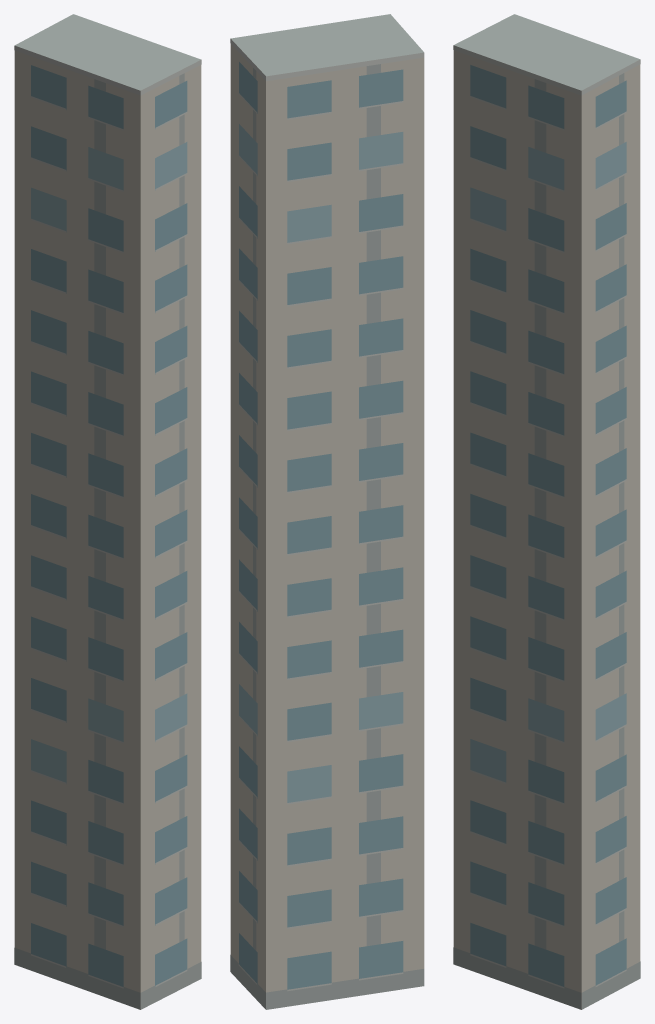
Rendered from survey-upis-32933924.glb.
3 renders of one model, left to right at view 1: azimuth 90°, elevation 25°; view 2: azimuth 150°, elevation 25°; view 3: azimuth 270°, elevation 25°, orthographic.
Visible parts, largest first — view 1: survey-upis-32933924.tmp; view 2: survey-upis-32933924.tmp; view 3: survey-upis-32933924.tmp.
Boxes of the visible parts, x1=… form: survey-upis-32933924.tmp: x1=14, y1=14, x2=201, y2=1009; survey-upis-32933924.tmp: x1=230, y1=14, x2=424, y2=1009; survey-upis-32933924.tmp: x1=453, y1=14, x2=640, y2=1009.
Size of the model in its own units: 8.2 by 45.75 by 8.44.
